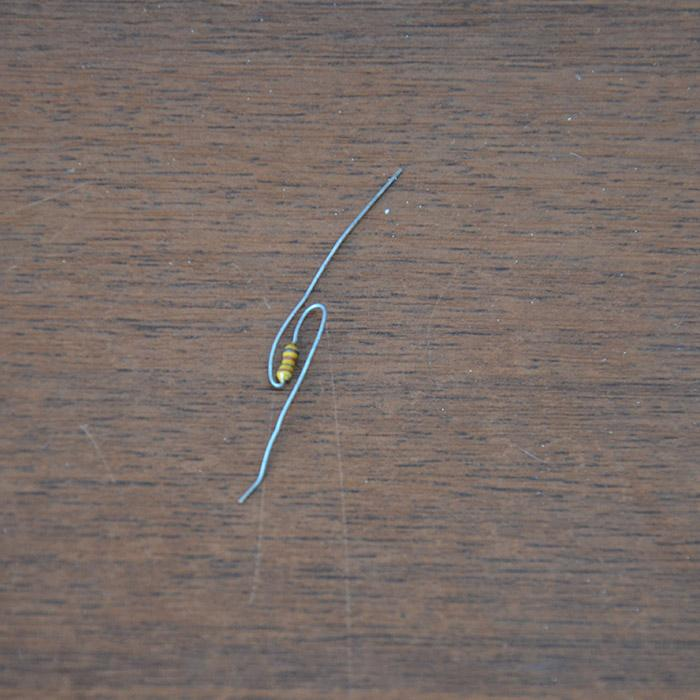resistor: (275, 341, 301, 383)
